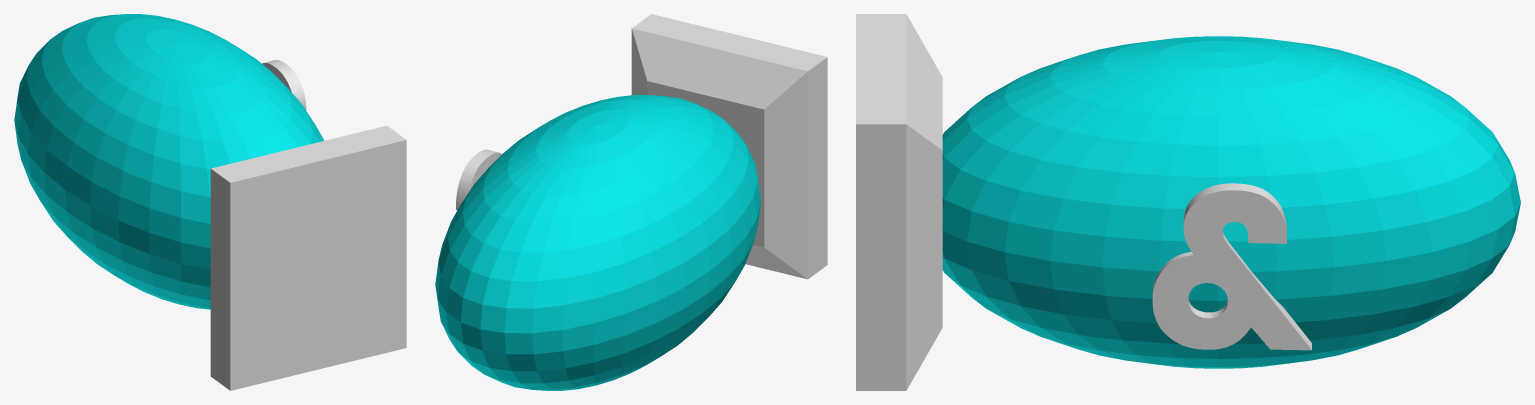
The model's file is sbomb.fbx.
3 views of the same model, side by side, from view 1: azimuth 30°, elevation 25°; view 2: azimuth 150°, elevation 25°; view 3: azimuth 270°, elevation 25° (orthographic). The views are drawn at different scales.
Visible parts, largest first — view 1: Sphere, Cube, Path 0; view 2: Sphere, Cube, Path 0; view 3: Sphere, Cube, Path 0.
Part boxes in pixels (bbox=[...]): Sphere: bbox=[14, 14, 324, 309]; Cube: bbox=[210, 125, 406, 390]; Path 0: bbox=[262, 60, 306, 110]; Sphere: bbox=[435, 95, 760, 390]; Cube: bbox=[631, 14, 827, 279]; Path 0: bbox=[456, 149, 501, 210]; Sphere: bbox=[942, 36, 1520, 368]; Cube: bbox=[856, 14, 942, 390]; Path 0: bbox=[1152, 183, 1311, 350].
Bounding box in the file's own units: 204 × 200 × 399.
